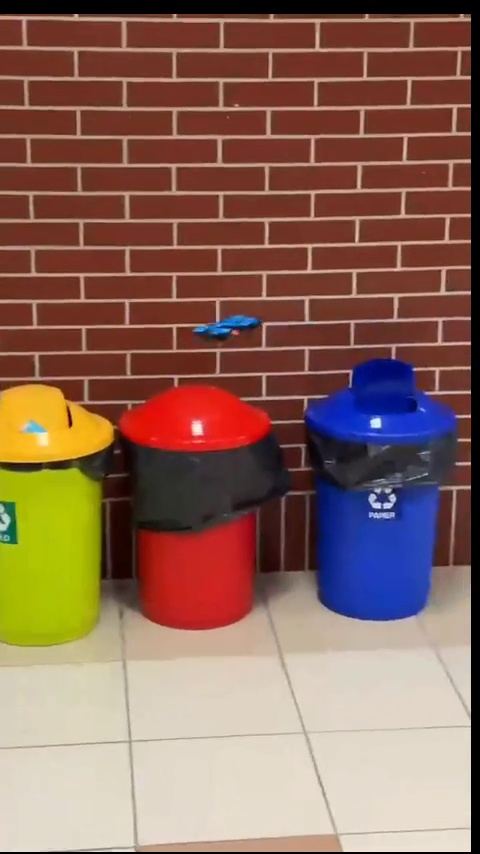drone: (192, 311, 263, 344)
